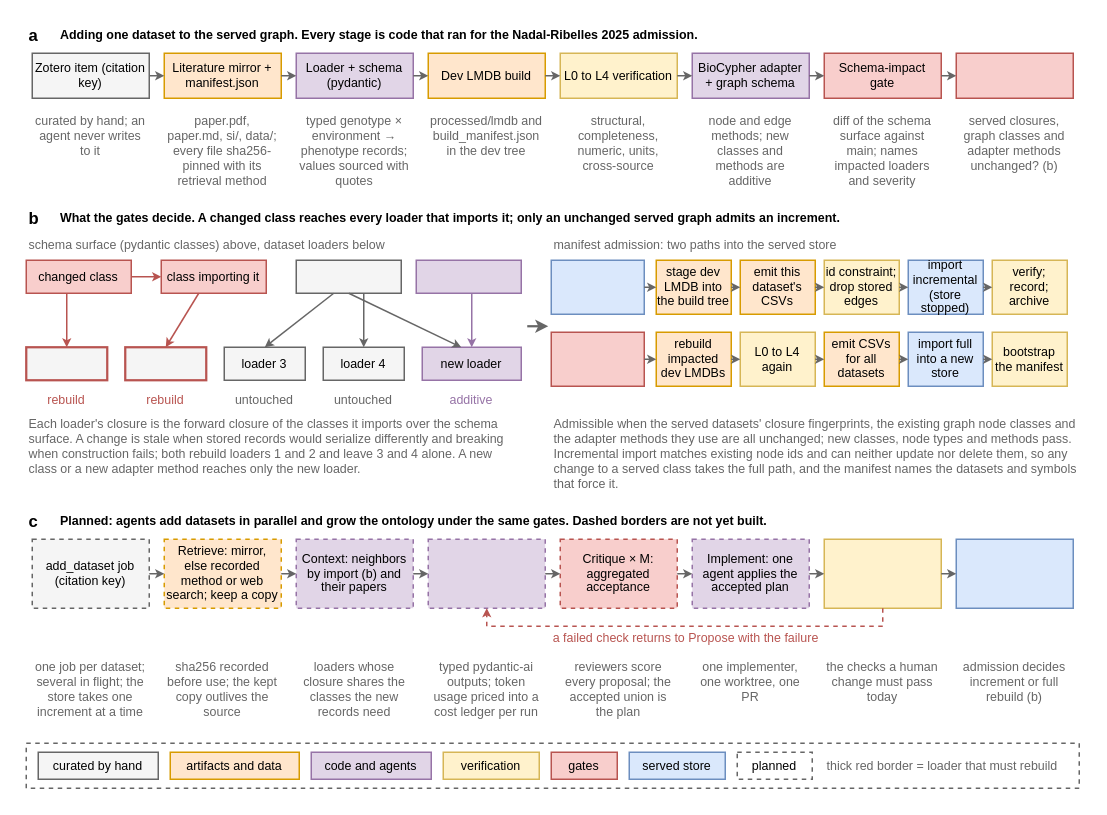
This 1107x815 diagram has some shape labels left out. Here are the shapes that lost their labels. From the top down, the centre of each, then its label:
At [1014,75]: "Manifest admission gate".
At [348,276]: "unchanged class".
At [468,276]: "new class".
At [597,286]: "ADMISSIBLE".
At [66,363]: "loader 1".
At [165,363]: "loader 2".
At [597,358]: "BLOCKED".
At [486,573]: "Propose × N: loader, schema delta, adapter".
At [882,573]: "Checks: pytest, mypy, ruff, L0 to L4, schema impact".
At [1014,573]: "PR, then the gates of a".
